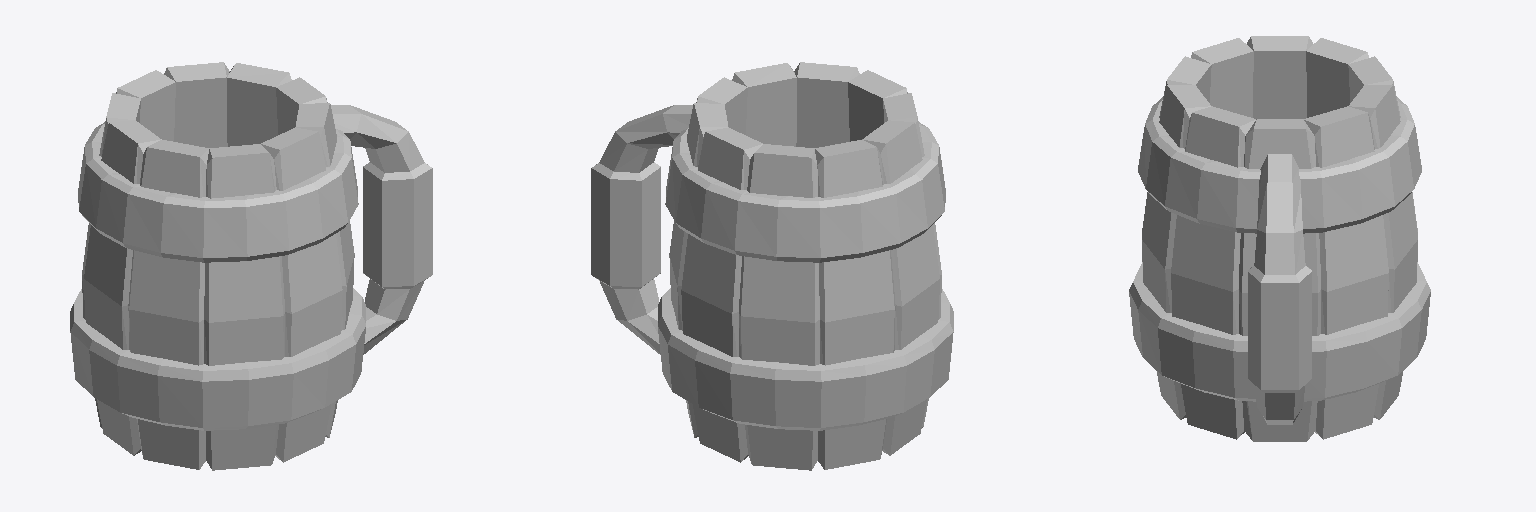
The model's file is mug.obj.
The picture shows the model from 3 angles: view 1: azimuth 30°, elevation 25°; view 2: azimuth 150°, elevation 25°; view 3: azimuth 270°, elevation 25°; orthographic projection.
Visible parts, largest first — view 1: mug_Cylinder.249; view 2: mug_Cylinder.249; view 3: mug_Cylinder.249.
Boxes of the visible parts, x1=… form: mug_Cylinder.249: x1=70, y1=62, x2=432, y2=470; mug_Cylinder.249: x1=591, y1=62, x2=953, y2=470; mug_Cylinder.249: x1=1129, y1=36, x2=1430, y2=441.
Size of the model in its own units: 0.4375 by 0.3892 by 0.3434.